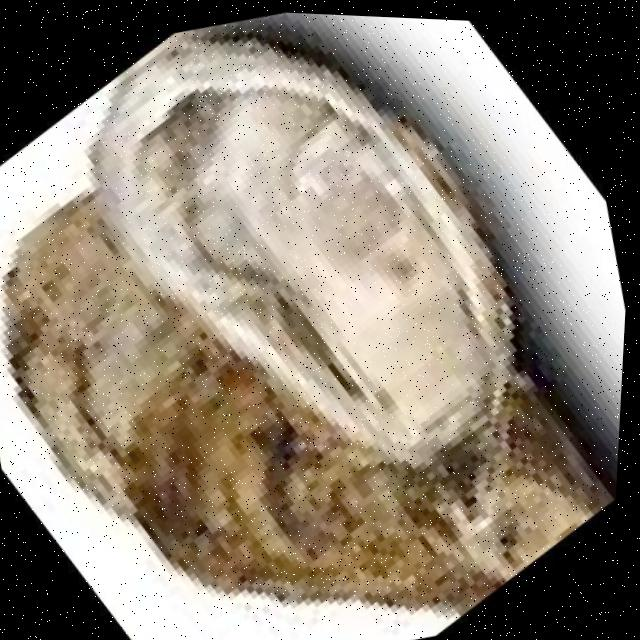Oyster-Indeterminate: (0, 154, 285, 552), (118, 332, 484, 610)
Oyster-Open: (84, 29, 515, 469)
